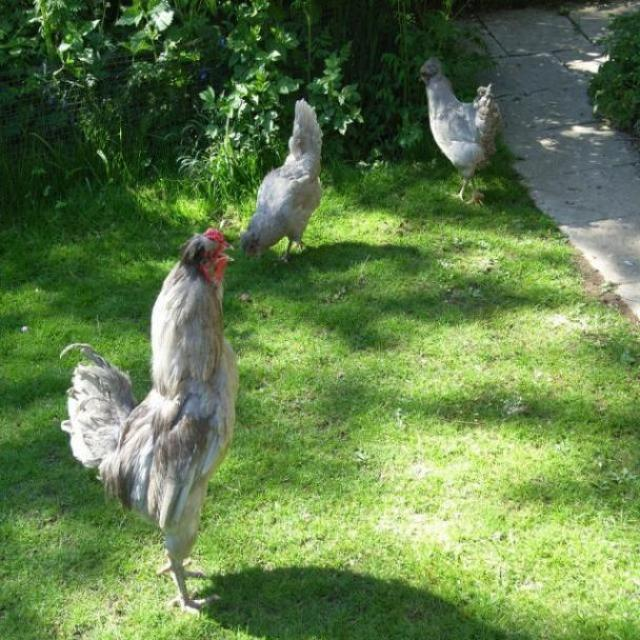Chicken: (73, 197, 236, 611), (239, 97, 324, 270), (415, 56, 503, 210)
